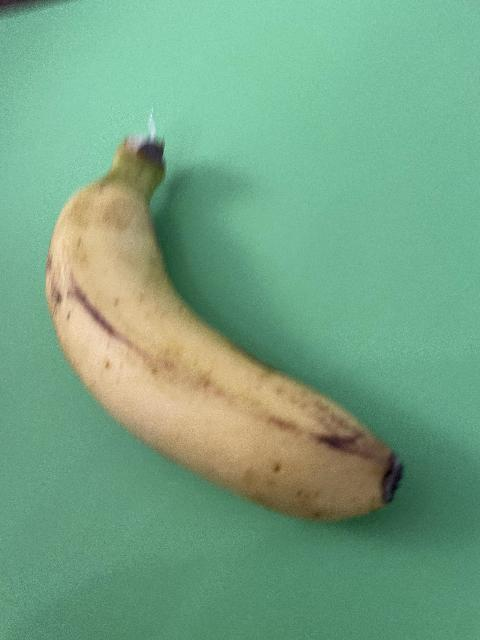banana: (42, 126, 406, 524)
